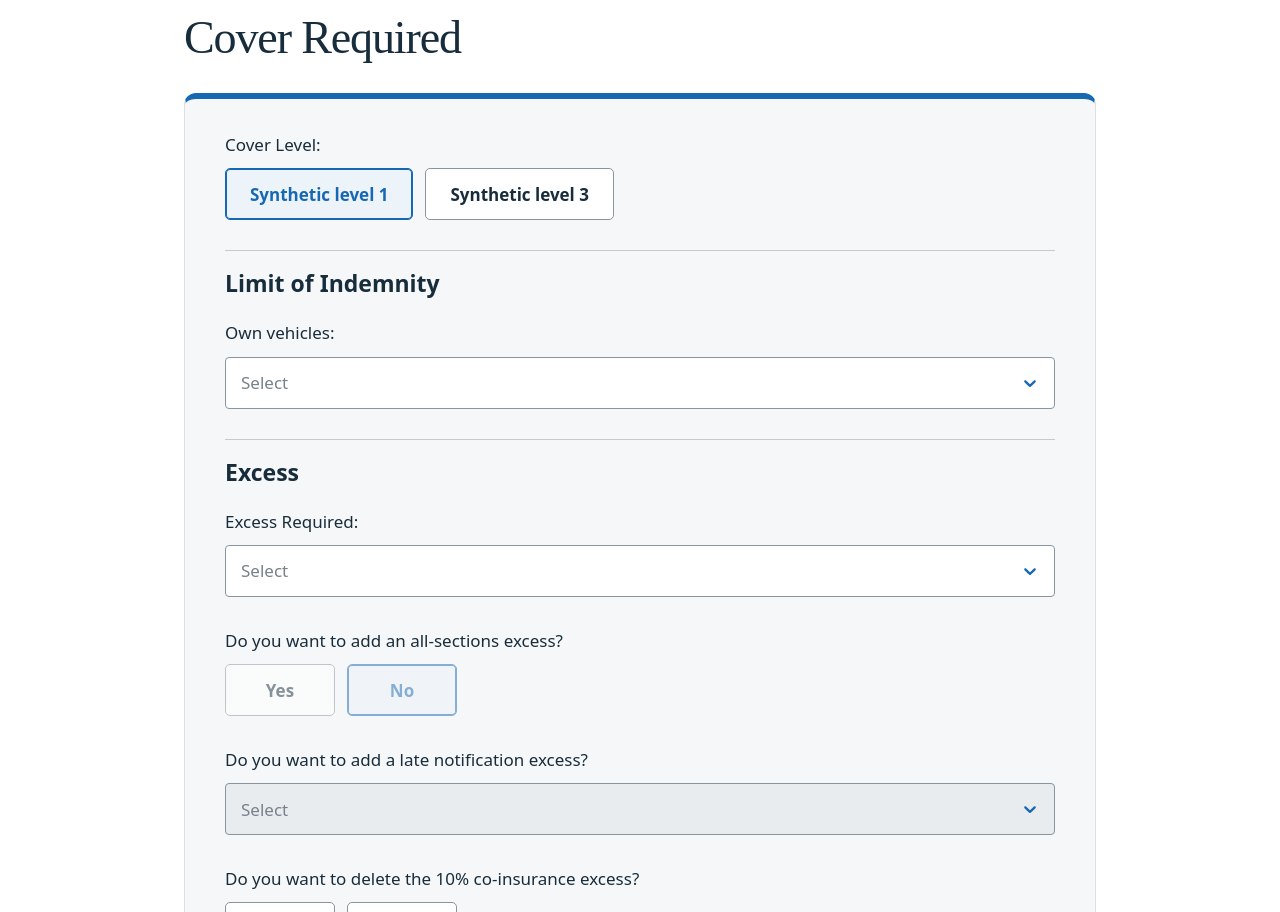
Test: MTS-05 mounted cover › Q01–10 strict cover branch and fixed disabled defaults without synthetic option rows
Check: the heading "Limit of Indemnity" is shown, box [225, 250, 1055, 299]
Check: the heading "Excess" is shown, box [225, 438, 1055, 488]
Step 1. Click the radio button labelled "Synthetic level 3" → [432, 175], box [426, 168, 438, 181]
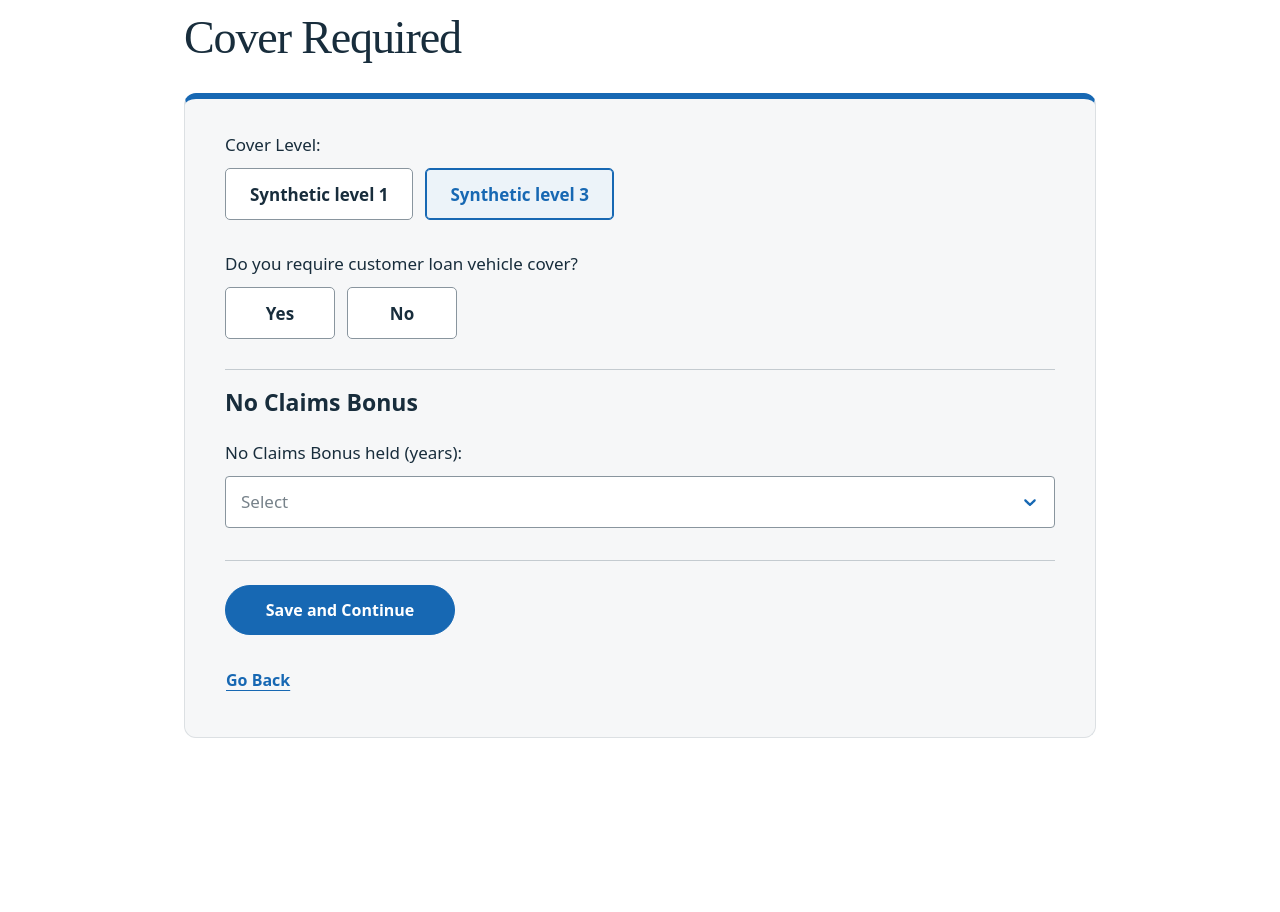
Check: the heading "No Claims Bonus" is shown, box [225, 369, 1055, 419]
Check: the heading "Limit of Indemnity" is gone
